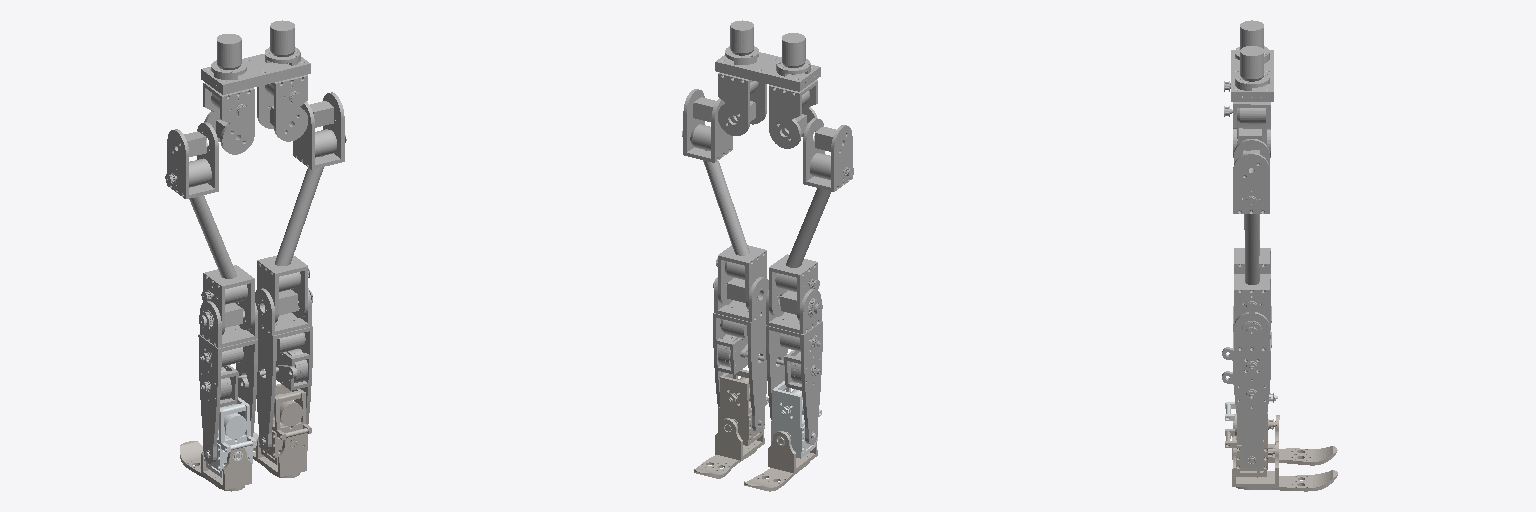
The robot description file, URDF, robot "huron_description":
<?xml version="1.0" encoding="utf-8"?>
<!-- This URDF was automatically created by SolidWorks to URDF Exporter! Originally created by [author] ([email redacted]) 
     Commit Version: 1.6.0-4-g7f85cfe  Build Version: 1.6.7995.38578
     For more information, please see http://wiki.ros.org/sw_urdf_exporter -->
<robot
  name="huron_description">

  <gazebo>
    <self_collide>1</self_collide>
  </gazebo>

  <link name="base_footprint" />
  <link
    name="base_link">
    <inertial>
      <origin
        xyz="4.7319E-09 5.4338E-07 0.026975"
        rpy="0 0 0" />
      <mass
        value="3.4072" />
      <inertia
        ixx="0.00319"
        ixy="7.149E-11"
        ixz="6.0313E-11"
        iyy="0.010531"
        iyz="6.926E-09"
        izz="0.012315" />
    </inertial>
    <visual>
      <origin
        xyz="0 0 0"
        rpy="0 0 0" />
      <geometry>
        <mesh
          filename="package://huron_description/meshes/base_link.STL" />
      </geometry>
      <material
        name="">
        <color
          rgba="0.75294 0.75294 0.75294 1" />
      </material>
    </visual>
    <collision>
      <origin
        xyz="0 0 0"
        rpy="0 0 0" />
      <geometry>
        <mesh
          filename="package://huron_description/meshes/base_link.STL" />
      </geometry>
    </collision>
  </link>
  <joint name="base_joint" type="fixed">
    <parent link="base_footprint"/>
    <child link="base_link"/>
    <!-- <origin xyz="0.0 0.0 0.0" rpy="0 0 0"/> -->
    <origin xyz="0.0 0.0 1.3" rpy="0 0 0"/>
  </joint>
  <link
    name="l_hip_yaw_link">
    <inertial>
      <origin
        xyz="0.00063365 -0.00053469 0.063496"
        rpy="0 0 0" />
      <mass
        value="1.6968" />
      <inertia
        ixx="0.0022702"
        ixy="-2.5061E-10"
        ixz="6.6464E-06"
        iyy="0.0026746"
        iyz="-5.1468E-09"
        izz="0.001238" />
    </inertial>
    <visual>
      <origin
        xyz="0 0 0"
        rpy="0 0 0" />
      <geometry>
        <mesh
          filename="package://huron_description/meshes/l_hip_yaw_link.STL" />
      </geometry>
      <material
        name="">
        <color
          rgba="0.75294 0.75294 0.75294 1" />
      </material>
    </visual>
    <collision>
      <origin
        xyz="0 0 0"
        rpy="0 0 0" />
      <geometry>
        <mesh
          filename="package://huron_description/meshes/l_hip_yaw_link.STL" />
      </geometry>
    </collision>
  </link>
  <joint
    name="l_hip_yaw_joint"
    type="revolute">
    <origin
      xyz="-0.0775 0 -0.14512"
      rpy="0 0 -0.0062919" />
    <parent
      link="base_link" />
    <child
      link="l_hip_yaw_link" />
    <axis
      xyz="0 0 1" />
    <limit
      lower="-3.1416"
      upper="3.1416"
      effort="0"
      velocity="0" />
    <dynamics
      damping="0.1"
      friction="0" />
  </joint>
  <link
    name="l_hip_roll_link">
    <inertial>
      <origin
        xyz="0.07196 0.0061153 -0.0005211"
        rpy="0 0 0" />
      <mass
        value="1.1884" />
      <inertia
        ixx="0.00098222"
        ixy="-9.9265E-08"
        ixz="4.9766E-09"
        iyy="0.00097045"
        iyz="-9.7282E-08"
        izz="0.00092365" />
    </inertial>
    <visual>
      <origin
        xyz="0 0 0"
        rpy="0 0 0" />
      <geometry>
        <mesh
          filename="package://huron_description/meshes/l_hip_roll_link.STL" />
      </geometry>
      <material
        name="">
        <color
          rgba="0.75294 0.75294 0.75294 1" />
      </material>
    </visual>
    <collision>
      <origin
        xyz="0 0 0"
        rpy="0 0 0" />
      <geometry>
        <mesh
          filename="package://huron_description/meshes/l_hip_roll_link.STL" />
      </geometry>
    </collision>
  </link>
  <joint
    name="l_hip_roll_joint"
    type="revolute">
    <origin
      xyz="0 0 0"
      rpy="1.5708 0 3.1416" />
    <parent
      link="l_hip_yaw_link" />
    <child
      link="l_hip_roll_link" />
    <axis
      xyz="0 0 1" />
    <limit
      lower="-3.1416"
      upper="3.1416"
      effort="0"
      velocity="0" />
    <dynamics
      damping="0.1"
      friction="0" />
  </joint>
  <link
    name="l_hip_pitch_link">
    <inertial>
      <origin
        xyz="0.26603 4.6212E-05 0.053152"
        rpy="0 0 0" />
      <mass
        value="4.2544" />
      <inertia
        ixx="0.0034527"
        ixy="-3.1046E-08"
        ixz="0.0019797"
        iyy="0.010032"
        iyz="-1.4492E-10"
        izz="0.01009" />
    </inertial>
    <visual>
      <origin
        xyz="0 0 0"
        rpy="0 0 0" />
      <geometry>
        <mesh
          filename="package://huron_description/meshes/l_hip_pitch_link.STL" />
      </geometry>
      <material
        name="">
        <color
          rgba="0.75294 0.75294 0.75294 1" />
      </material>
    </visual>
    <collision>
      <origin
        xyz="0 0 0"
        rpy="0 0 0" />
      <geometry>
        <mesh
          filename="package://huron_description/meshes/l_hip_pitch_link.STL" />
      </geometry>
    </collision>
  </link>
  <joint
    name="l_hip_pitch_joint"
    type="revolute">
    <origin
      xyz="0 0 0"
      rpy="-1.5707963267949 0 -1.5707963267949" />
    <parent
      link="l_hip_roll_link" />
    <child
      link="l_hip_pitch_link" />
    <axis
      xyz="0 0 1" />
    <limit
      lower="-3.1416"
      upper="3.1416"
      effort="0"
      velocity="0" />
    <dynamics
      damping="0.1"
      friction="0" />
  </joint>
  <link
    name="l_knee_pitch_link">
    <inertial>
      <origin
        xyz="0.13395 0.00068098 0.00486"
        rpy="0 0 0" />
      <mass
        value="3.4875" />
      <inertia
        ixx="0.0064808"
        ixy="1.3685E-05"
        ixz="-2.8221E-05"
        iyy="0.019763"
        iyz="1.0351E-05"
        izz="0.017354" />
    </inertial>
    <visual>
      <origin
        xyz="0 0 0"
        rpy="0 0 0" />
      <geometry>
        <mesh
          filename="package://huron_description/meshes/l_knee_pitch_link.STL" />
      </geometry>
      <material
        name="">
        <color
          rgba="0.75294 0.75294 0.75294 1" />
      </material>
    </visual>
    <collision>
      <origin
        xyz="0 0 0"
        rpy="0 0 0" />
      <geometry>
        <mesh
          filename="package://huron_description/meshes/l_knee_pitch_link.STL" />
      </geometry>
    </collision>
  </link>
  <joint
    name="l_knee_pitch_joint"
    type="revolute">
    <origin
      xyz="0.511278478308803 4.99999997527478E-05 1.66647320021251E-05"
      rpy="0 0 0" />
    <parent
      link="l_hip_pitch_link" />
    <child
      link="l_knee_pitch_link" />
    <axis
      xyz="0 0 1" />
    <limit
      lower="-3.1416"
      upper="3.1416"
      effort="0"
      velocity="0" />
    <dynamics
      damping="0.1"
      friction="0" />
  </joint>
  <link
    name="l_ankle_pitch_link">
    <inertial>
      <origin
        xyz="-0.029808 0.001045 3.1135E-08"
        rpy="0 0 0" />
      <mass
        value="2.4242" />
      <inertia
        ixx="0.0025143"
        ixy="-0.00025651"
        ixz="1.1648E-12"
        iyy="0.0045125"
        iyz="6.7198E-10"
        izz="0.0049235" />
    </inertial>
    <visual>
      <origin
        xyz="0 0 0"
        rpy="0 0 0" />
      <geometry>
        <mesh
          filename="package://huron_description/meshes/l_ankle_pitch_link.STL" />
      </geometry>
      <material
        name="">
        <color
          rgba="0.89804 0.91765 0.92941 1" />
      </material>
    </visual>
    <collision>
      <origin
        xyz="0 0 0"
        rpy="0 0 0" />
      <geometry>
        <mesh
          filename="package://huron_description/meshes/l_ankle_pitch_link.STL" />
      </geometry>
    </collision>
  </link>
  <joint
    name="l_ankle_pitch_joint"
    type="revolute">
    <origin
      xyz="0.370000000000016 3.16358752296964E-05 0.00249999999999911"
      rpy="0 0 0.0249371730038869" />
    <parent
      link="l_knee_pitch_link" />
    <child
      link="l_ankle_pitch_link" />
    <axis
      xyz="0 0 1" />
    <limit
      lower="-3.1416"
      upper="3.1416"
      effort="0"
      velocity="0" />
    <dynamics
      damping="0.1"
      friction="0" />
  </joint>
  <link
    name="l_ankle_roll_link">
    <inertial>
      <origin
        xyz="0.073422 -5.3261E-05 0.063946"
        rpy="0 0 0" />
      <mass
        value="1.8533" />
      <inertia
        ixx="0.008682"
        ixy="-1.0255E-05"
        ixz="0.00024351"
        iyy="0.0084057"
        iyz="0.00012332"
        izz="0.0013019" />
    </inertial>
    <visual>
      <origin
        xyz="0 0 0"
        rpy="0 0 0" />
      <geometry>
        <mesh
          filename="package://huron_description/meshes/l_ankle_roll_link.STL" />
      </geometry>
      <material
        name="">
        <color
          rgba="0.77647 0.75686 0.73725 1" />
      </material>
    </visual>
    <collision>
      <origin
        xyz="0 0 0"
        rpy="0 0 0" />
      <geometry>
        <mesh
          filename="package://huron_description/meshes/l_ankle_roll_link.STL" />
      </geometry>
    </collision>
  </link>
  <joint
    name="l_ankle_roll_joint"
    type="revolute">
    <origin
      xyz="0 0 0"
      rpy="1.57079632679489 0 0" />
    <parent
      link="l_ankle_pitch_link" />
    <child
      link="l_ankle_roll_link" />
    <axis
      xyz="0 0 1" />
    <limit
      lower="-3.1416"
      upper="3.1416"
      effort="0"
      velocity="0" />
    <dynamics
      damping="0.1"
      friction="0" />
  </joint>
  <link
    name="r_hip_yaw_link">
    <inertial>
      <origin
        xyz="0.0006244 0.00052023 0.063505"
        rpy="0 0 0" />
      <mass
        value="1.6968" />
      <inertia
        ixx="0.0022729"
        ixy="-5.6517E-10"
        ixz="6.6464E-06"
        iyy="0.0026746"
        iyz="5.6889E-09"
        izz="0.0012354" />
    </inertial>
    <visual>
      <origin
        xyz="0 0 0"
        rpy="0 0 0" />
      <geometry>
        <mesh
          filename="package://huron_description/meshes/r_hip_yaw_link.STL" />
      </geometry>
      <material
        name="">
        <color
          rgba="0.75294 0.75294 0.75294 1" />
      </material>
    </visual>
    <collision>
      <origin
        xyz="0 0 0"
        rpy="0 0 0" />
      <geometry>
        <mesh
          filename="package://huron_description/meshes/r_hip_yaw_link.STL" />
      </geometry>
    </collision>
  </link>
  <joint
    name="r_hip_yaw_joint"
    type="revolute">
    <origin
      xyz="0.0774999999999944 0 -0.1451242"
      rpy="0 0 3.13046853298182" />
    <parent
      link="base_link" />
    <child
      link="r_hip_yaw_link" />
    <axis
      xyz="0 0 1" />
    <limit
      lower="-3.1416"
      upper="3.1416"
      effort="0"
      velocity="0" />
    <dynamics
      damping="0.1"
      friction="0" />
  </joint>
  <link
    name="r_hip_roll_link">
    <inertial>
      <origin
        xyz="-0.07196 0.0061152 -0.00052563"
        rpy="0 0 0" />
      <mass
        value="1.1884" />
      <inertia
        ixx="0.00098222"
        ixy="9.8947E-08"
        ixz="9.2484E-09"
        iyy="0.00097045"
        iyz="9.7414E-08"
        izz="0.00092365" />
    </inertial>
    <visual>
      <origin
        xyz="0 0 0"
        rpy="0 0 0" />
      <geometry>
        <mesh
          filename="package://huron_description/meshes/r_hip_roll_link.STL" />
      </geometry>
      <material
        name="">
        <color
          rgba="0.75294 0.75294 0.75294 1" />
      </material>
    </visual>
    <collision>
      <origin
        xyz="0 0 0"
        rpy="0 0 0" />
      <geometry>
        <mesh
          filename="package://huron_description/meshes/r_hip_roll_link.STL" />
      </geometry>
    </collision>
  </link>
  <joint
    name="r_hip_roll_joint"
    type="revolute">
    <origin
      xyz="0 0 0"
      rpy="1.5708 0 0" />
    <parent
      link="r_hip_yaw_link" />
    <child
      link="r_hip_roll_link" />
    <axis
      xyz="0 0 1" />
    <limit
      lower="-3.1416"
      upper="3.1416"
      effort="0"
      velocity="0" />
    <dynamics
      damping="0.1"
      friction="0" />
  </joint>
  <link
    name="r_hip_pitch_link">
    <inertial>
      <origin
        xyz="0.26753 4.9957E-05 -0.053132"
        rpy="0 0 0" />
      <mass
        value="4.2544" />
      <inertia
        ixx="0.0034501"
        ixy="-2.7561E-09"
        ixz="-0.0019797"
        iyy="0.010035"
        iyz="2.5263E-10"
        izz="0.01009" />
    </inertial>
    <visual>
      <origin
        xyz="0 0 0"
        rpy="0 0 0" />
      <geometry>
        <mesh
          filename="package://huron_description/meshes/r_hip_pitch_link.STL" />
      </geometry>
      <material
        name="">
        <color
          rgba="0.75294 0.75294 0.75294 1" />
      </material>
    </visual>
    <collision>
      <origin
        xyz="0 0 0"
        rpy="0 0 0" />
      <geometry>
        <mesh
          filename="package://huron_description/meshes/r_hip_pitch_link.STL" />
      </geometry>
    </collision>
  </link>
  <joint
    name="r_hip_pitch_joint"
    type="revolute">
    <origin
      xyz="0 0 0"
      rpy="-1.5708 0 -1.5708" />
    <parent
      link="r_hip_roll_link" />
    <child
      link="r_hip_pitch_link" />
    <axis
      xyz="0 0 1" />
    <limit
      lower="-3.1416"
      upper="3.1416"
      effort="0"
      velocity="0" />
    <dynamics
      damping="0.1"
      friction="0" />
  </joint>
  <link
    name="r_knee_pitch_link">
    <inertial>
      <origin
        xyz="0.13396 0.00063335 -0.00486"
        rpy="0 0 0" />
      <mass
        value="3.4875" />
      <inertia
        ixx="0.0064812"
        ixy="1.2949E-05"
        ixz="2.8064E-05"
        iyy="0.019762"
        iyz="-1.0389E-05"
        izz="0.017354" />
    </inertial>
    <visual>
      <origin
        xyz="0 0 0"
        rpy="0 0 0" />
      <geometry>
        <mesh
          filename="package://huron_description/meshes/r_knee_pitch_link.STL" />
      </geometry>
      <material
        name="">
        <color
          rgba="0.75294 0.75294 0.75294 1" />
      </material>
    </visual>
    <collision>
      <origin
        xyz="0 0 0"
        rpy="0 0 0" />
      <geometry>
        <mesh
          filename="package://huron_description/meshes/r_knee_pitch_link.STL" />
      </geometry>
    </collision>
  </link>
  <joint
    name="r_knee_pitch_joint"
    type="revolute">
    <origin
      xyz="0.512778478308813 4.99999999867273E-05 -1.66647320091612E-05"
      rpy="0 0 0" />
    <parent
      link="r_hip_pitch_link" />
    <child
      link="r_knee_pitch_link" />
    <axis
      xyz="0 0 1" />
    <limit
      lower="-3.1416"
      upper="3.1416"
      effort="0"
      velocity="0" />
    <dynamics
      damping="0.1"
      friction="0" />
  </joint>
  <link
    name="r_ankle_pitch_link">
    <inertial>
      <origin
        xyz="-0.029867 0.001045 0.000556"
        rpy="0 0 0" />
      <mass
        value="2.4242" />
      <inertia
        ixx="0.0025143"
        ixy="-0.00025651"
        ixz="1.5321E-12"
        iyy="0.0045125"
        iyz="9.9589E-10"
        izz="0.0049235" />
    </inertial>
    <visual>
      <origin
        xyz="0 0 0"
        rpy="0 0 0" />
      <geometry>
        <mesh
          filename="package://huron_description/meshes/r_ankle_pitch_link.STL" />
      </geometry>
      <material
        name="">
        <color
          rgba="0.77647 0.75686 0.73725 1" />
      </material>
    </visual>
    <collision>
      <origin
        xyz="0 0 0"
        rpy="0 0 0" />
      <geometry>
        <mesh
          filename="package://huron_description/meshes/r_ankle_pitch_link.STL" />
      </geometry>
    </collision>
  </link>
  <joint
    name="r_ankle_pitch_joint"
    type="revolute">
    <origin
      xyz="0.370000000000006 -3.16358749707368E-05 -0.00249999999999918"
      rpy="0 0 0.0095311367408488" />
    <parent
      link="r_knee_pitch_link" />
    <child
      link="r_ankle_pitch_link" />
    <axis
      xyz="0 0 1" />
    <limit
      lower="-3.1416"
      upper="3.1416"
      effort="0"
      velocity="0" />
    <dynamics
      damping="0.1"
      friction="0" />
  </joint>
  <link
    name="r_ankle_roll_link">
    <inertial>
      <origin
        xyz="0.073422 7.2094E-05 0.063933"
        rpy="0 0 0" />
      <mass
        value="1.8531" />
      <inertia
        ixx="0.0086813"
        ixy="1.0356E-05"
        ixz="0.00024346"
        iyy="0.0084051"
        iyz="-0.00012301"
        izz="0.0013018" />
    </inertial>
    <visual>
      <origin
        xyz="0 0 0"
        rpy="0 0 0" />
      <geometry>
        <mesh
          filename="package://huron_description/meshes/r_ankle_roll_link.STL" />
      </geometry>
      <material
        name="">
        <color
          rgba="0.77647 0.75686 0.73725 1" />
      </material>
    </visual>
    <collision>
      <origin
        xyz="0 0 0"
        rpy="0 0 0" />
      <geometry>
        <mesh
          filename="package://huron_description/meshes/r_ankle_roll_link.STL" />
      </geometry>
    </collision>
  </link>
  <joint
    name="r_ankle_roll_joint"
    type="revolute">
    <origin
      xyz="0 0 0"
      rpy="1.57079632679489 0 0" />
    <parent
      link="r_ankle_pitch_link" />
    <child
      link="r_ankle_roll_link" />
    <axis
      xyz="0 0 1" />
    <limit
      lower="-3.1416"
      upper="3.1416"
      effort="0"
      velocity="0" />
    <dynamics
      damping="0.1"
      friction="0" />
  </joint>
</robot>

--- Render facts (derived) ---
3 views of the same robot in one strip: view 1: azimuth 30°, elevation 25°; view 2: azimuth 150°, elevation 25°; view 3: azimuth 270°, elevation 25° (orthographic).
Model huron_description with 14 links and 13 joints (12 revolute, 1 fixed), rooted at base_footprint, posed every joint at zero.
Links seen in each view (by area): view 1: l_hip_pitch_link, r_hip_pitch_link, l_knee_pitch_link, r_knee_pitch_link, base_link, l_hip_yaw_link, r_hip_yaw_link, r_ankle_pitch_link, l_ankle_pitch_link, l_ankle_roll_link, r_ankle_roll_link; view 2: l_hip_pitch_link, r_hip_pitch_link, l_knee_pitch_link, r_knee_pitch_link, base_link, l_hip_yaw_link, r_hip_yaw_link, r_ankle_pitch_link, l_ankle_pitch_link, l_ankle_roll_link, r_ankle_roll_link; view 3: r_hip_pitch_link, r_knee_pitch_link, base_link, r_ankle_roll_link, r_hip_yaw_link, l_ankle_roll_link, r_ankle_pitch_link, l_hip_pitch_link.
Boxes of the visible links, left/top/right/bottom form: l_hip_pitch_link: left=165, top=122, right=254, bottom=334; r_hip_pitch_link: left=257, top=92, right=346, bottom=322; l_knee_pitch_link: left=198, top=301, right=257, bottom=463; r_knee_pitch_link: left=255, top=288, right=312, bottom=450; base_link: left=201, top=20, right=310, bottom=94; l_hip_yaw_link: left=203, top=83, right=254, bottom=154; r_hip_yaw_link: left=257, top=75, right=307, bottom=141; r_ankle_pitch_link: left=259, top=384, right=311, bottom=464; l_ankle_pitch_link: left=204, top=397, right=256, bottom=477; l_ankle_roll_link: left=180, top=441, right=251, bottom=491; r_ankle_roll_link: left=253, top=432, right=306, bottom=477; l_hip_pitch_link: left=769, top=118, right=853, bottom=321; r_hip_pitch_link: left=682, top=89, right=766, bottom=309; l_knee_pitch_link: left=766, top=289, right=822, bottom=444; r_knee_pitch_link: left=713, top=277, right=768, bottom=431; base_link: left=715, top=20, right=820, bottom=91; l_hip_yaw_link: left=769, top=80, right=817, bottom=148; r_hip_yaw_link: left=718, top=72, right=766, bottom=135; r_ankle_pitch_link: left=718, top=369, right=768, bottom=445; l_ankle_pitch_link: left=771, top=381, right=821, bottom=458; l_ankle_roll_link: left=744, top=431, right=817, bottom=491; r_ankle_roll_link: left=694, top=418, right=764, bottom=478; r_hip_pitch_link: left=1233, top=139, right=1270, bottom=340; r_knee_pitch_link: left=1222, top=312, right=1271, bottom=468; base_link: left=1231, top=20, right=1273, bottom=101; r_ankle_roll_link: left=1232, top=441, right=1337, bottom=491; r_hip_yaw_link: left=1224, top=102, right=1270, bottom=157; l_ankle_roll_link: left=1232, top=414, right=1337, bottom=465; r_ankle_pitch_link: left=1225, top=412, right=1276, bottom=476; l_hip_pitch_link: left=1234, top=108, right=1270, bottom=273.
Bounding box of the posed robot: 0.5068 × 0.2992 × 1.23 m (x, y, z).
11 mesh visuals loaded from 13 distinct referenced files (11 binary STL); not drawn: 2 (reference not matched to a file when rendering).